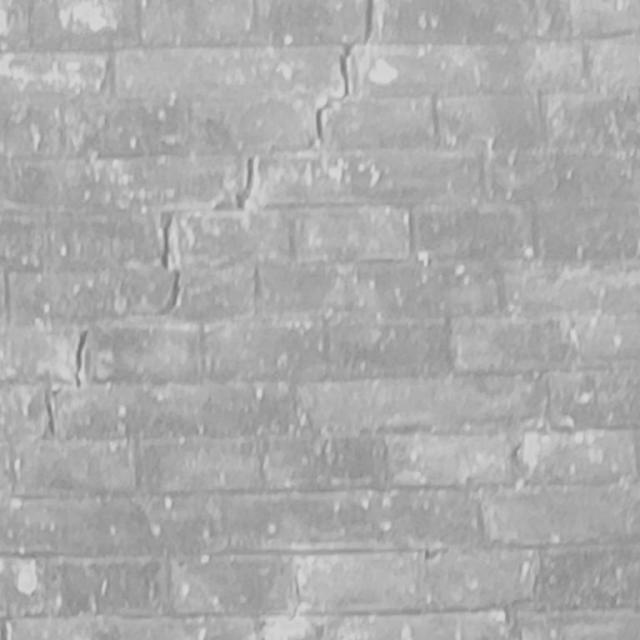crack: (45, 1, 373, 437)
